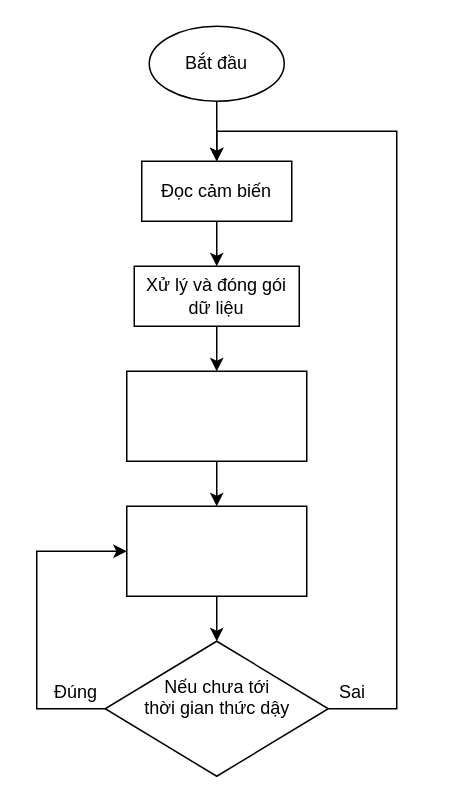
Image size: 453x803. Some labels were removed from this diagram. The centre of each missing label's shape, as x and y in pixels:
"Gửi dữ liệu về trạm Master" belongs at point (216, 415).
"Vi điều khiển vào chế độ ngủ sâu" belongs at point (216, 550).
